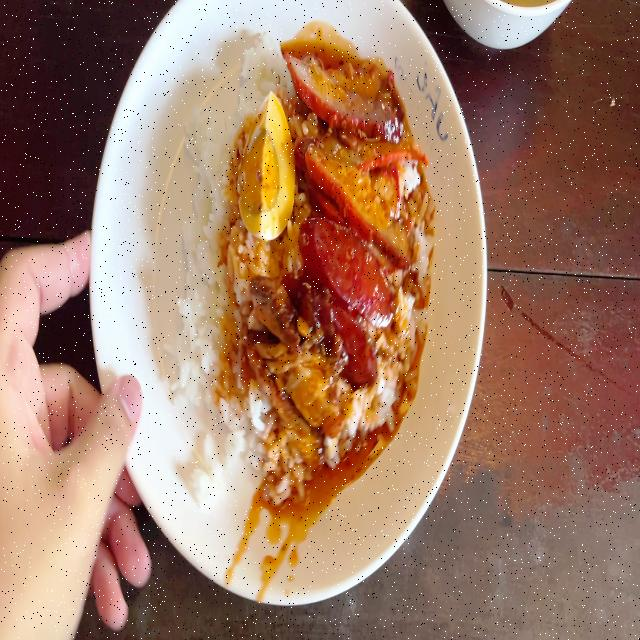boiled_egg: (245, 108, 291, 238)
chainese_sausage: (299, 234, 382, 359)
crispy_pork: (265, 352, 357, 455), (251, 274, 294, 379)
red_pork: (305, 66, 427, 218)
red_pork_and_crispy_pork: (182, 42, 417, 468)
rice: (181, 226, 250, 478), (185, 124, 243, 243), (227, 46, 279, 105)
